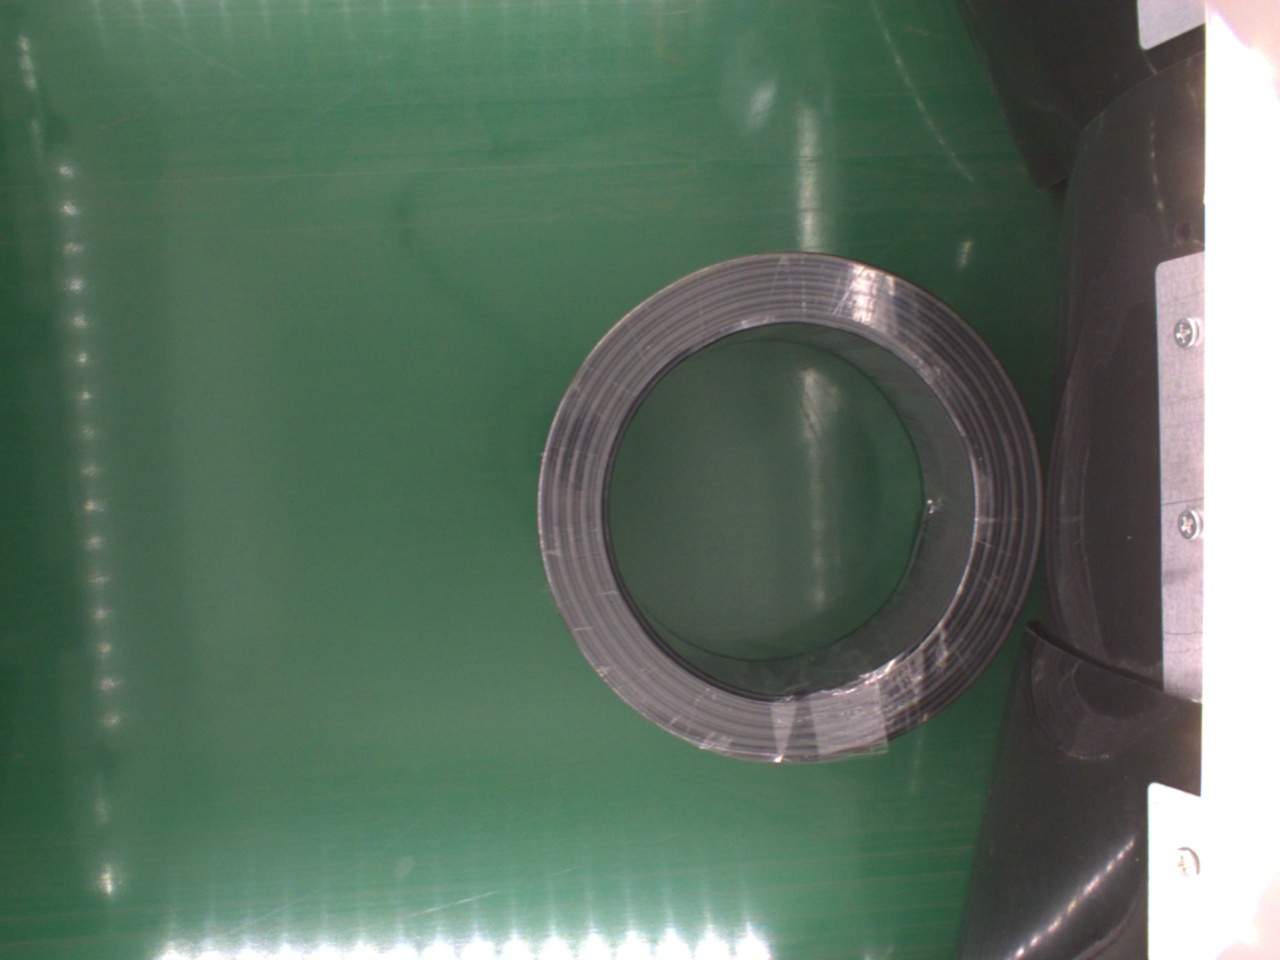black: (543, 247, 1046, 761)
